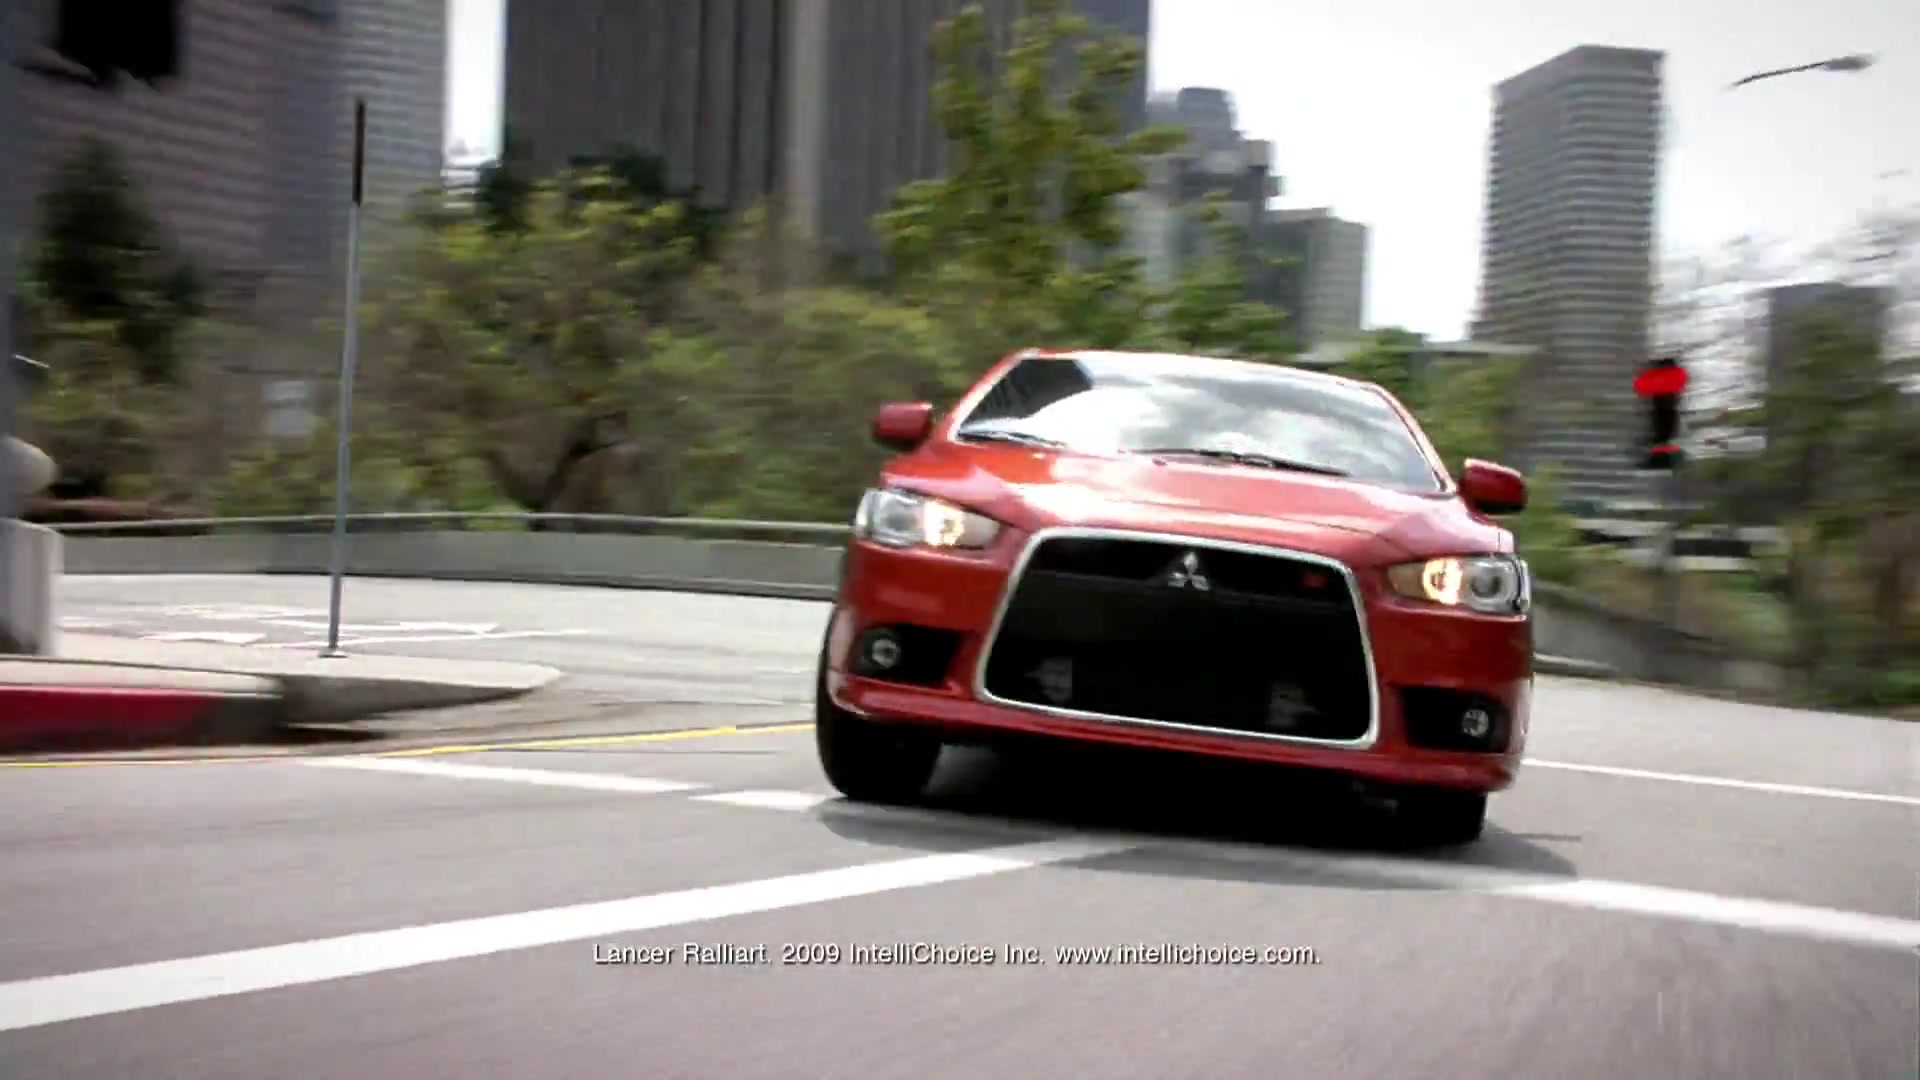car: (808, 335, 1539, 851)
